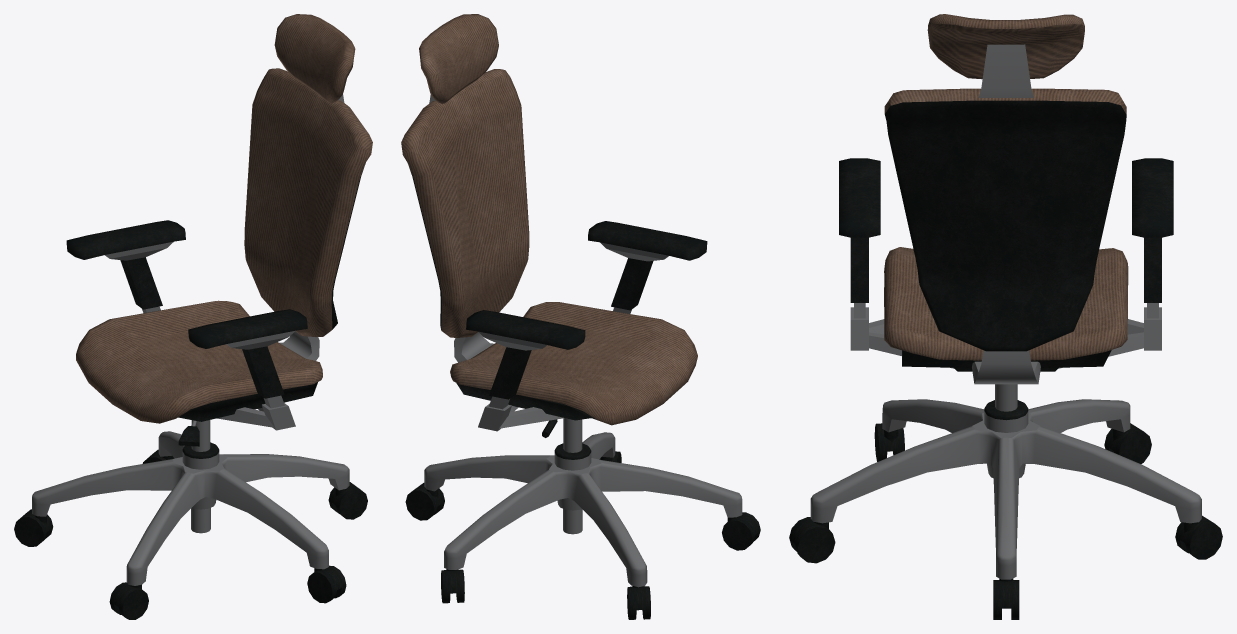
File: SM_office_chair_a.fbx
3 renders of one model, left to right at view 1: azimuth 30°, elevation 25°; view 2: azimuth 150°, elevation 25°; view 3: azimuth 270°, elevation 25°, orthographic. The views are drawn at different scales.
Parts seen in each view (by area): view 1: polySurface48, polySurface49, polySurface50; view 2: polySurface48, polySurface49, polySurface50; view 3: polySurface50, polySurface49, polySurface48.
Part boxes in pixels (x1=…): polySurface48: x1=76, y1=14, x2=372, y2=423; polySurface49: x1=32, y1=94, x2=349, y2=585; polySurface50: x1=14, y1=163, x2=367, y2=619; polySurface48: x1=401, y1=14, x2=697, y2=425; polySurface49: x1=424, y1=95, x2=742, y2=587; polySurface50: x1=405, y1=164, x2=760, y2=619; polySurface50: x1=789, y1=100, x2=1222, y2=619; polySurface49: x1=810, y1=44, x2=1201, y2=579; polySurface48: x1=884, y1=14, x2=1128, y2=360.
Size of the model in its own units: 0.9125 by 1.44 by 0.9584.
